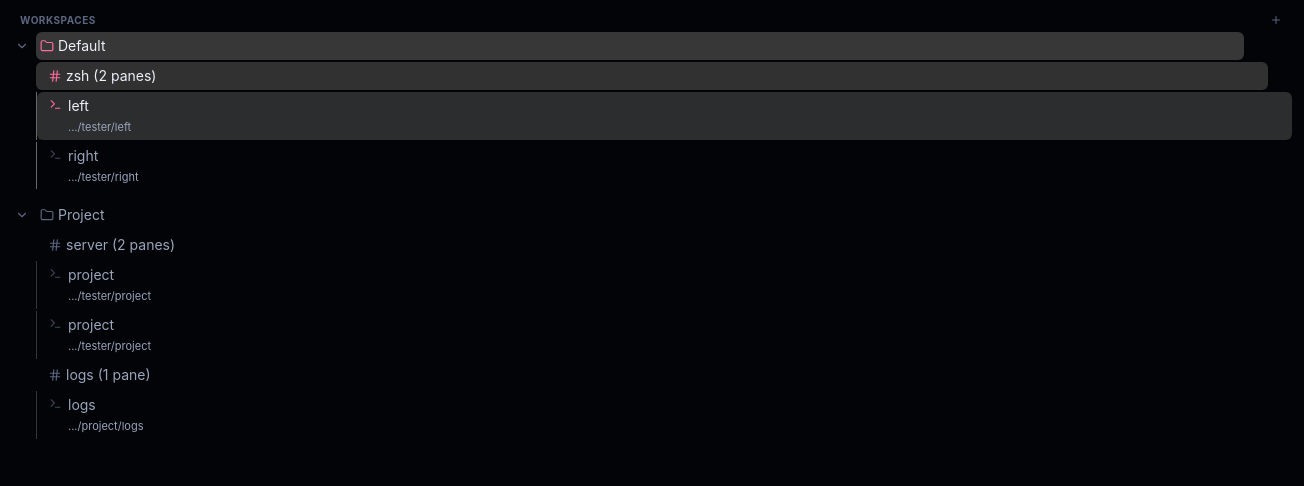
Test case: WorkspacesView › Pane context menu (Create Tab from Pane) › creates a new tab from the targeted pane and closes the menu
# the non-active pane's action is selected.
Right-click the button "right .../tester/right" at x=83, y=155, box [37,142,1292,189]
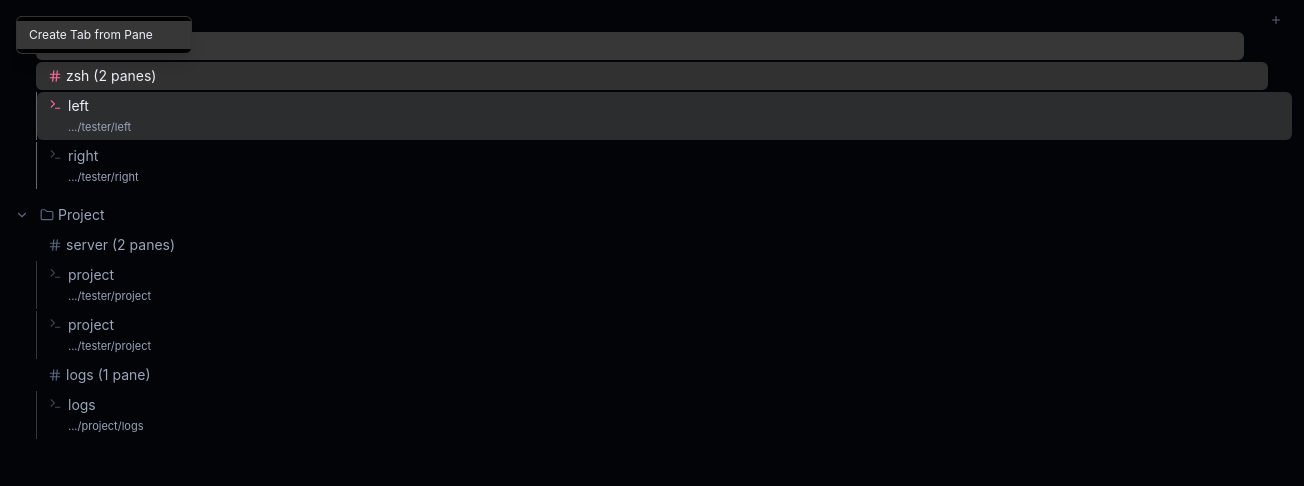
Click the menu item "Create Tab from Pane". click: x=104, y=35
box: [17,21,191,49]
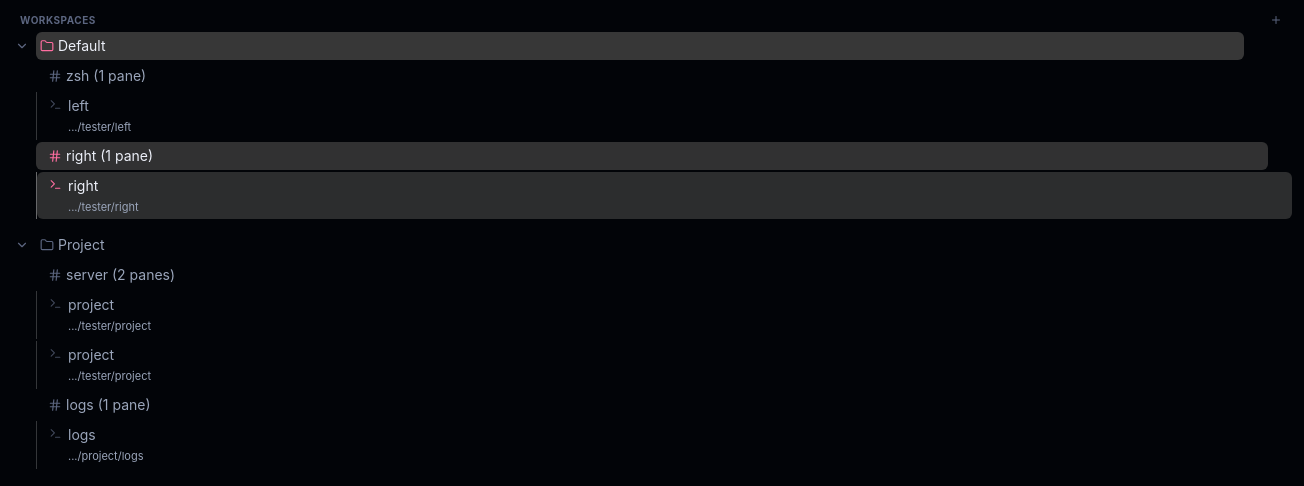
Check: the menu is gone
